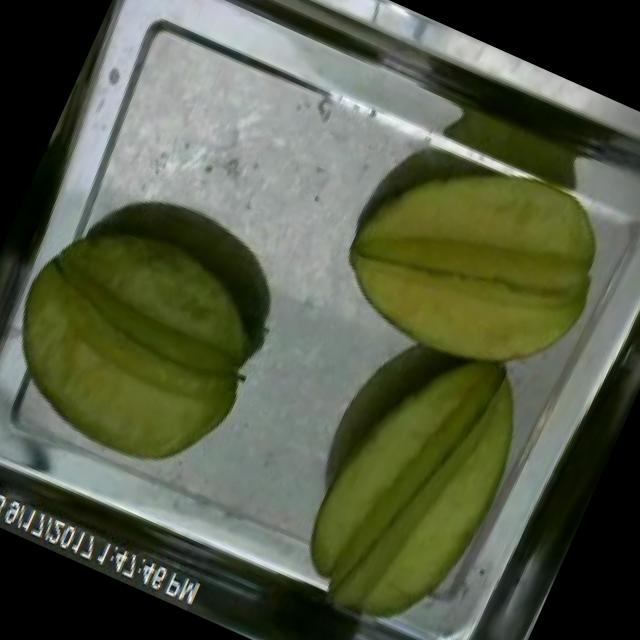fruit: (308, 108, 638, 414), (275, 306, 563, 640), (0, 179, 298, 500)
